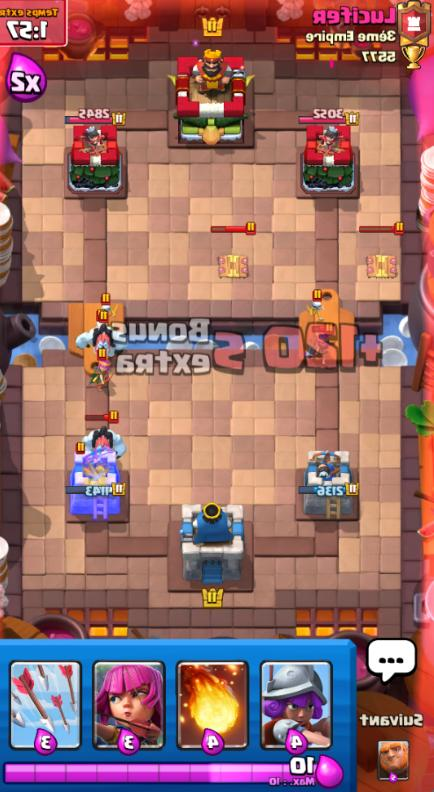archere: (302, 333, 337, 369), (91, 359, 114, 388)
squelette: (101, 303, 125, 320), (307, 302, 324, 321), (299, 312, 305, 319)
